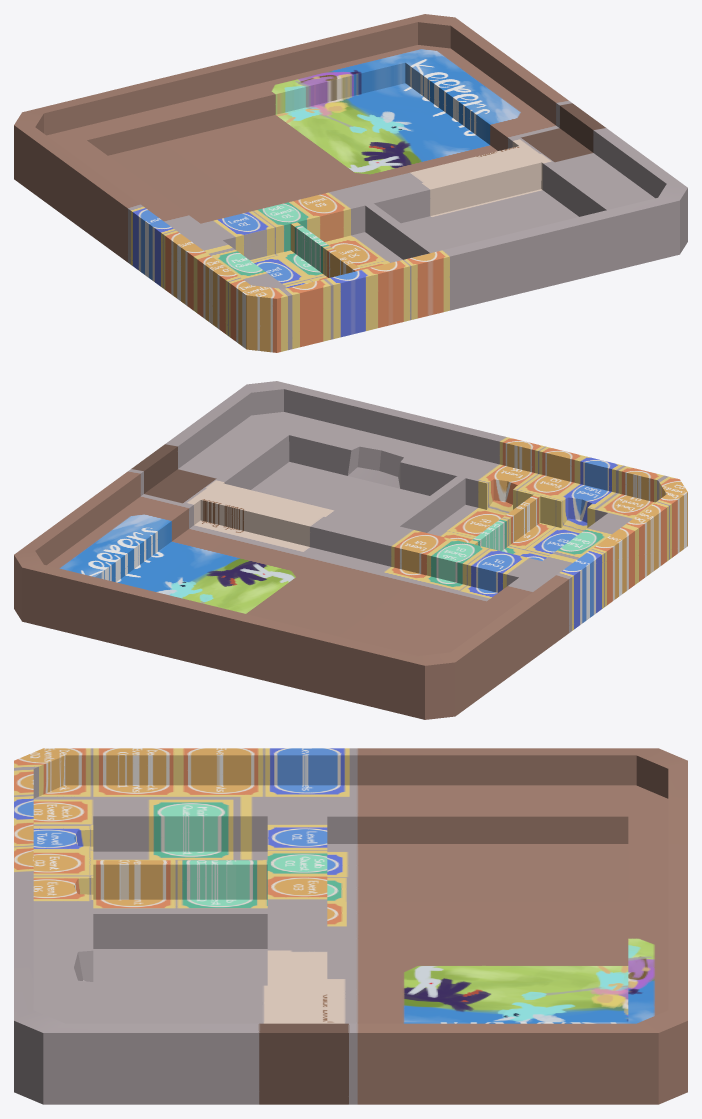
The model's file is Asset_Box_Socle.fbx.
3 renders of one model, top to bottom at view 1: azimuth 30°, elevation 25°; view 2: azimuth 150°, elevation 25°; view 3: azimuth 270°, elevation 25°, orthographic. The views are drawn at different scales.
Visible parts, largest first — view 1: Asset_Boite_Socle; view 2: Asset_Boite_Socle; view 3: Asset_Boite_Socle.
Boxes of the visible parts, x1,y1,x2,y2 form: Asset_Boite_Socle: (14, 14, 687, 352); Asset_Boite_Socle: (14, 381, 687, 719); Asset_Boite_Socle: (14, 748, 687, 1104).
Size of the model in its own units: 361 by 43.06 by 361.
1 material, 1 textured.
